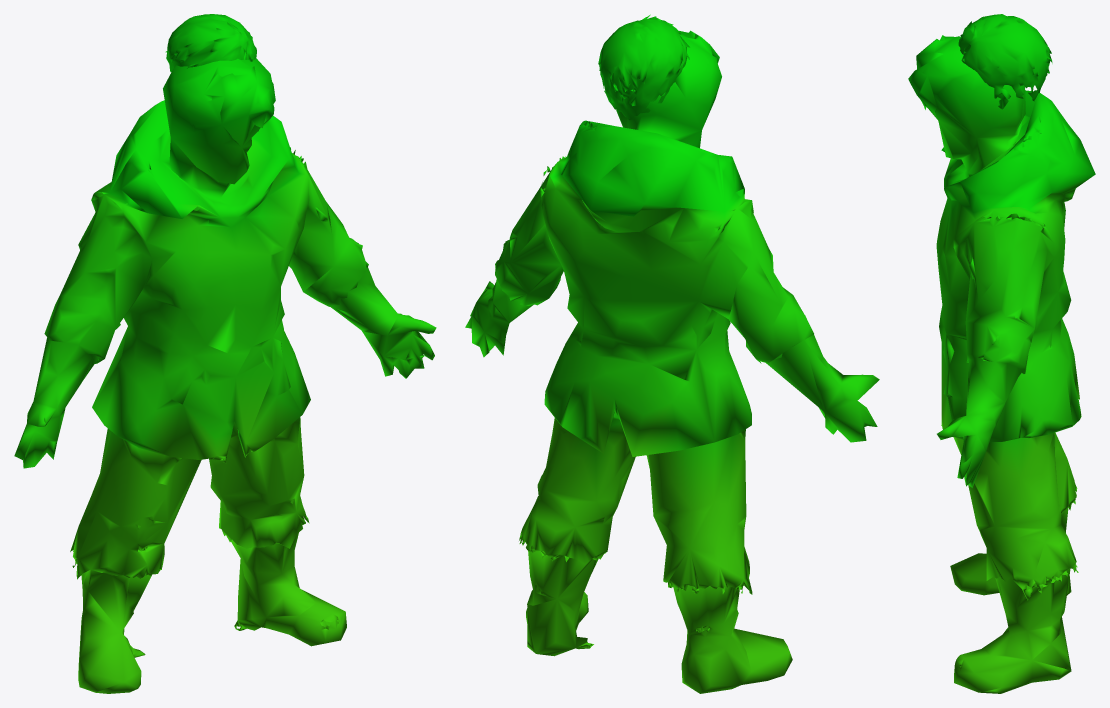
The model's file is compose_bandit.glb.
3 views of the same model, side by side, from view 1: azimuth 30°, elevation 25°; view 2: azimuth 150°, elevation 25°; view 3: azimuth 270°, elevation 25° (orthographic). The views are drawn at different scales.
Parts seen in each view (by area): view 1: compose_bandit; view 2: compose_bandit; view 3: compose_bandit.
Part boxes in pixels (bbox=[...]): compose_bandit: bbox=[14, 14, 436, 693]; compose_bandit: bbox=[465, 14, 879, 693]; compose_bandit: bbox=[908, 14, 1095, 693].
Size of the model in its own units: 1.39 by 2 by 0.5505.
